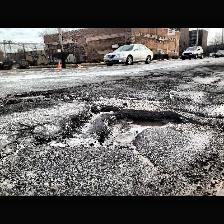pothole: (50, 104, 182, 148), (15, 92, 51, 104)
